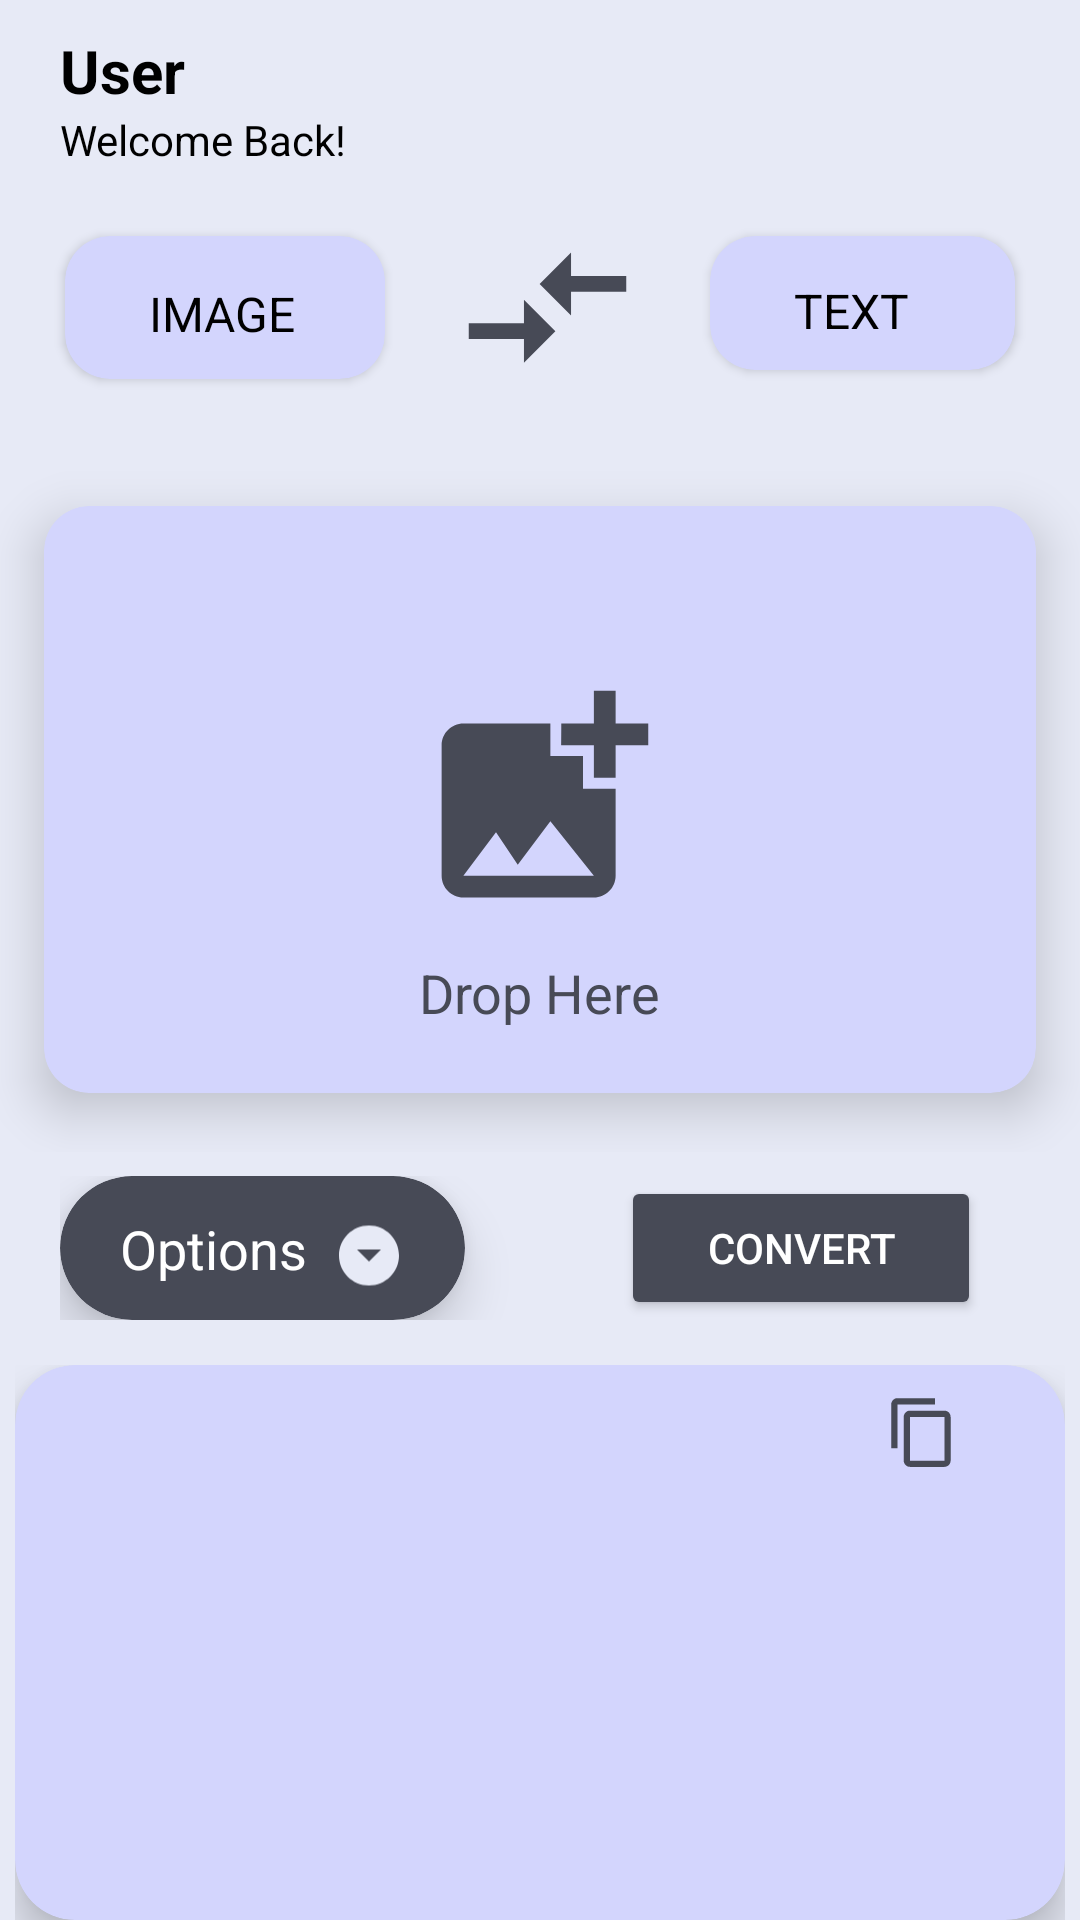

Named icons in this screenshot (1080×1920) and their centers, point (x, y):
add photo alternate: point (545, 794)
compare arrows: point (547, 308)
